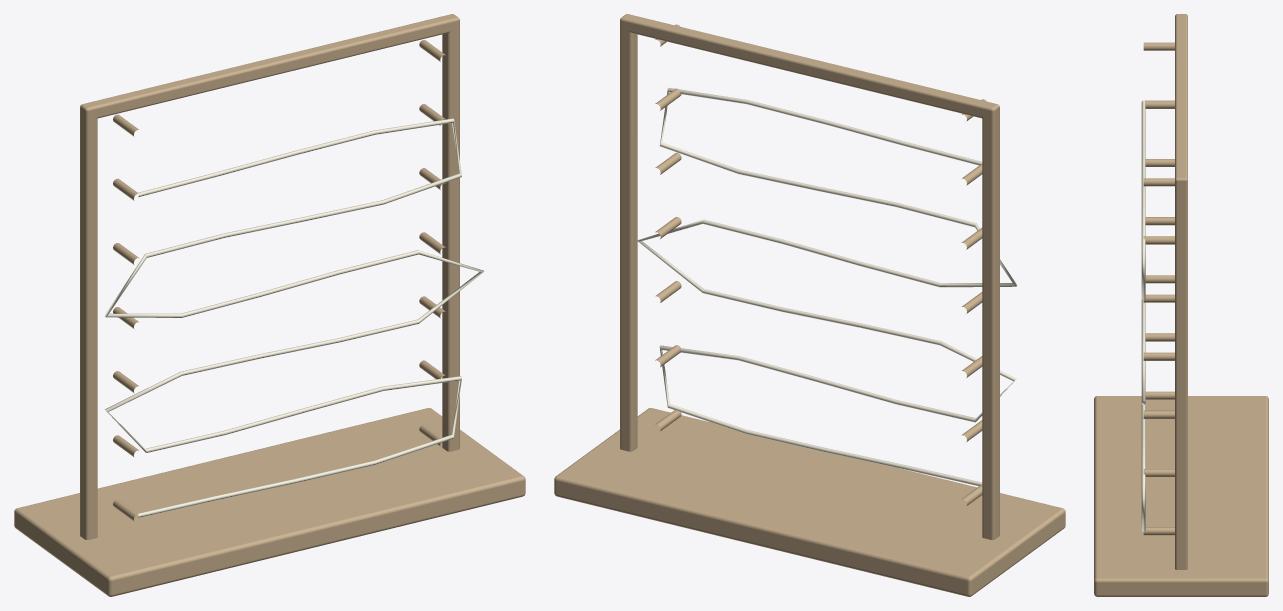
The model's file is textile-weaving-and-dye-workshop-warping-board-11db9201__29535.glb.
The picture shows the model from 3 angles, left to right: view 1: azimuth 30°, elevation 25°; view 2: azimuth 150°, elevation 25°; view 3: azimuth 270°, elevation 25°; orthographic projection. The views are drawn at different scales.
Parts seen in each view (by area): view 1: warping-board; view 2: warping-board; view 3: warping-board.
Boxes of the visible parts, x1,y1,x2,y2 form: warping-board: (14, 14, 525, 596); warping-board: (554, 14, 1065, 596); warping-board: (1094, 14, 1268, 596).
Size of the model in its own units: 1.5 by 1.55 by 0.6.
